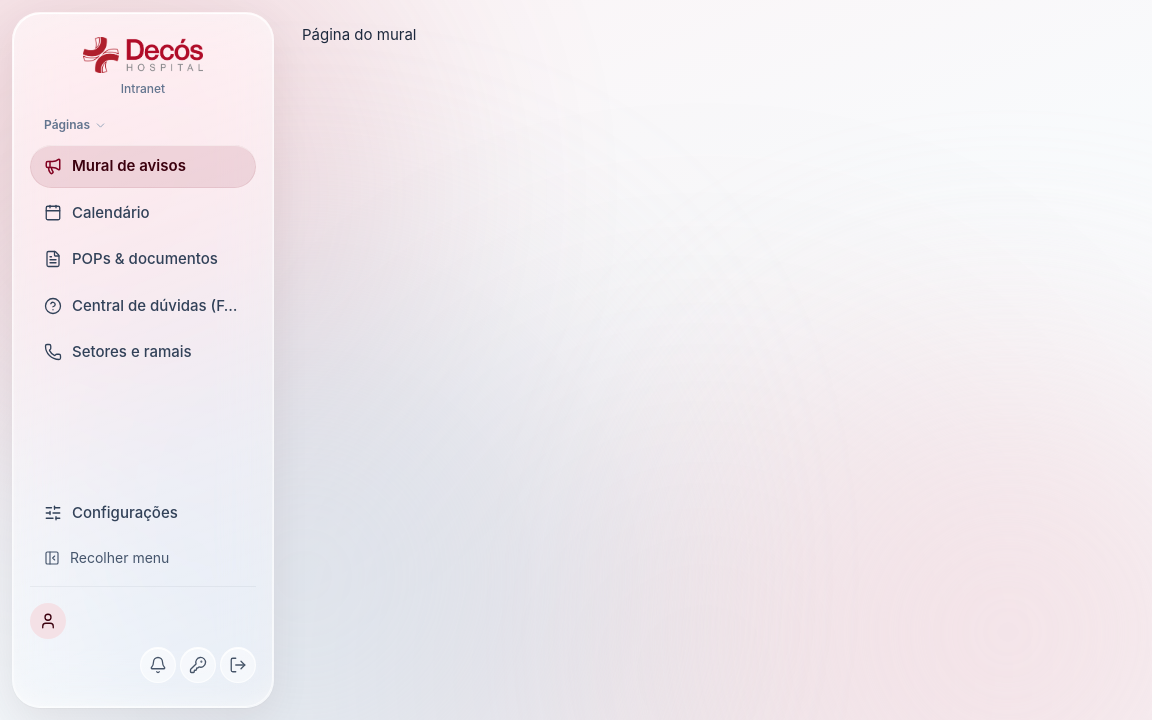
Test case: USU-07 — botão de alterar senha › fica ao lado de Sair e abre o modal
What coordinates should you click on to do the following:
click the button named "Alterar senha"
I would click on:
 (198, 665)
Its box is [180,647,216,683].
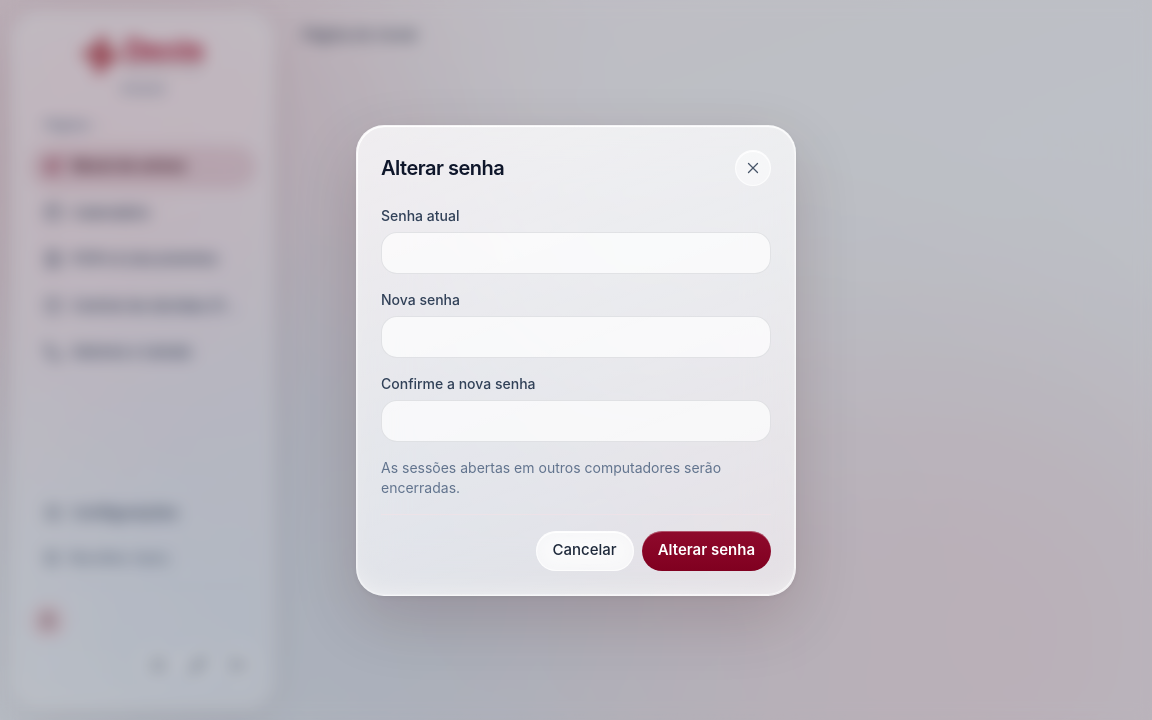
Expected: the dialog "Alterar senha" is shown, [356,124,796,596]
